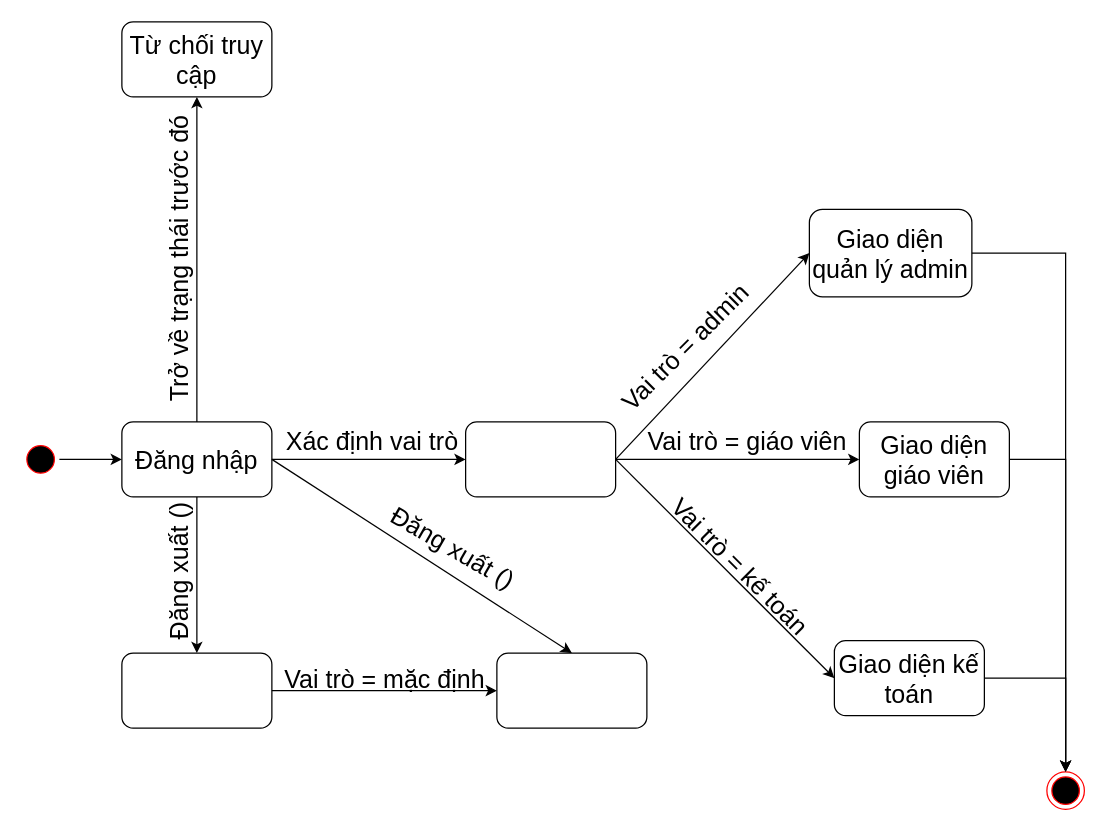
Image size: 1106x831. Some labels were removed from this diagram. The shapes that lost their labels are listed below. From the top down, each one's centre as x and y in pixels, then its label:
At (540,459): "Vai trò được xác định".
At (196,690): "Chưa đăng nhập".
At (571,690): "Giao diện mặc định".
